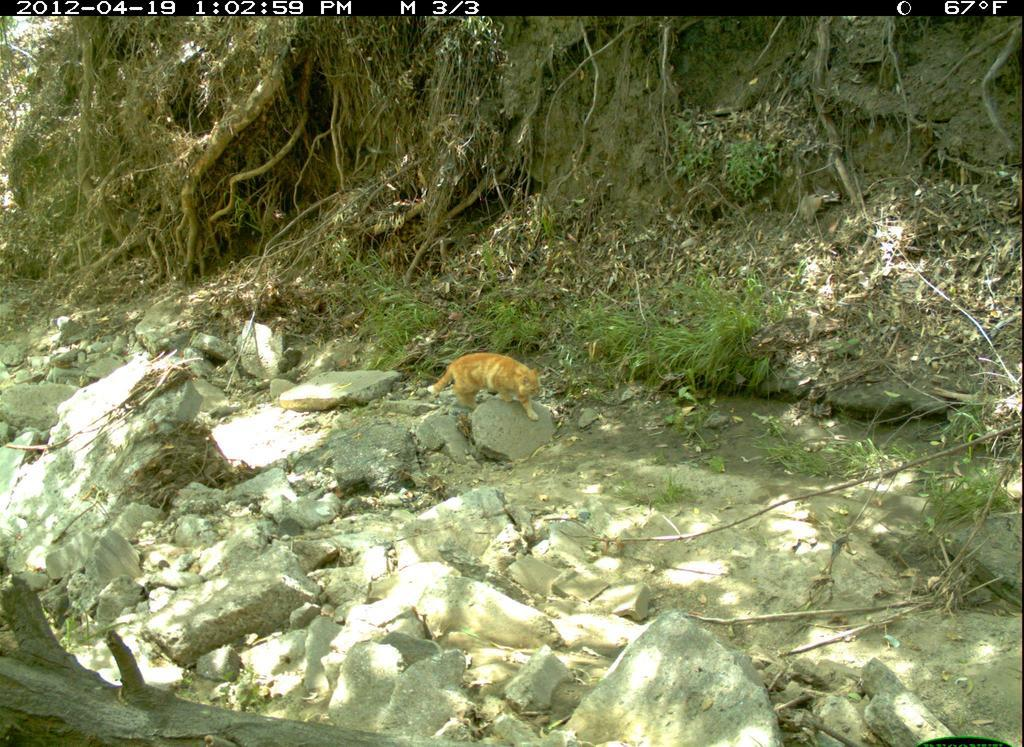cat: (422, 346, 552, 432)
